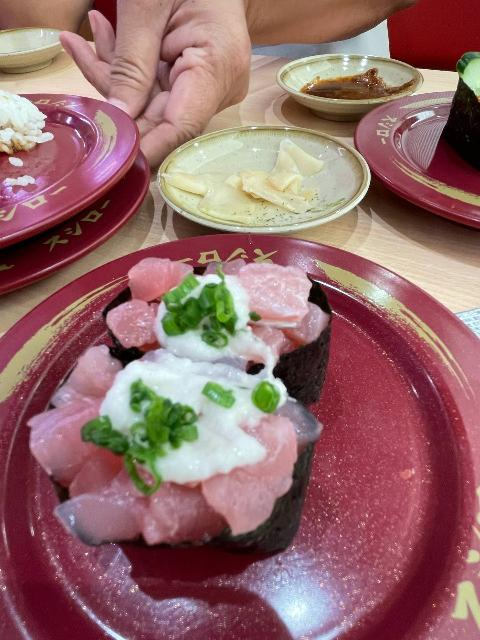janred: (0, 233, 480, 640), (0, 71, 155, 241), (0, 143, 151, 303), (358, 79, 480, 239)
